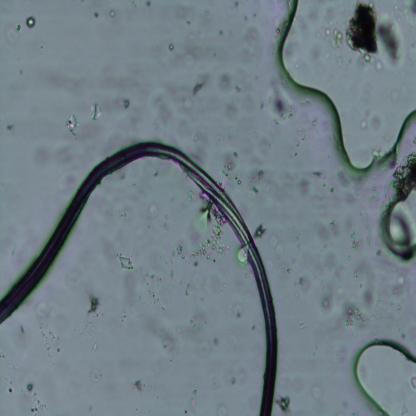Air bubble: (277, 0, 416, 180), (352, 339, 416, 416), (384, 180, 416, 269)
Background material: (346, 1, 404, 76), (188, 206, 222, 268), (154, 314, 185, 359), (391, 152, 416, 196), (143, 270, 167, 310), (121, 267, 138, 322), (267, 88, 293, 122), (38, 324, 63, 358), (152, 90, 174, 128), (180, 382, 204, 416), (321, 252, 349, 278), (315, 277, 334, 314), (222, 154, 243, 186), (326, 23, 346, 56), (31, 142, 54, 170), (334, 166, 355, 196), (344, 304, 366, 330), (185, 304, 207, 330), (213, 70, 233, 98), (57, 112, 78, 137), (369, 293, 387, 320), (293, 272, 310, 300), (250, 163, 264, 197), (10, 323, 29, 348), (390, 273, 408, 297), (334, 346, 352, 370), (358, 266, 376, 290), (232, 245, 250, 268), (34, 300, 53, 320), (116, 248, 135, 268), (180, 185, 201, 203), (8, 20, 23, 45), (31, 390, 46, 415), (85, 294, 102, 316), (268, 234, 284, 257), (86, 100, 104, 120), (276, 394, 292, 416), (192, 74, 208, 96), (224, 304, 244, 320), (249, 31, 261, 57), (222, 102, 238, 120), (66, 268, 82, 286), (170, 242, 186, 260), (189, 148, 207, 164), (297, 178, 312, 196), (180, 92, 195, 109), (181, 51, 195, 69), (350, 232, 362, 252), (365, 228, 375, 251), (314, 382, 326, 401), (193, 130, 207, 146), (179, 276, 190, 296), (407, 2, 416, 26), (321, 227, 333, 245), (88, 367, 103, 381), (364, 291, 376, 308), (226, 0, 237, 17), (253, 225, 267, 238), (280, 264, 292, 279), (265, 131, 277, 146), (297, 126, 307, 142), (26, 16, 38, 29), (372, 186, 380, 204), (221, 278, 228, 298), (120, 98, 131, 110), (298, 320, 309, 332), (264, 260, 274, 273), (24, 380, 34, 393), (135, 378, 144, 392), (217, 404, 227, 416), (312, 169, 324, 179), (330, 220, 338, 235), (209, 380, 222, 389), (118, 208, 128, 219), (6, 120, 14, 133), (148, 206, 158, 216), (90, 341, 99, 352), (169, 270, 178, 281), (213, 333, 221, 345), (7, 364, 19, 372), (302, 96, 312, 105), (150, 169, 160, 177), (216, 135, 224, 145), (167, 41, 174, 52), (342, 400, 350, 409), (162, 222, 171, 230), (118, 170, 127, 178), (312, 118, 318, 128), (230, 375, 236, 385), (273, 116, 279, 126), (258, 102, 266, 109), (110, 10, 117, 18), (233, 151, 240, 158), (144, 224, 152, 230), (0, 350, 6, 358), (292, 151, 298, 158), (161, 257, 167, 264), (18, 69, 24, 76), (347, 255, 352, 263), (146, 0, 151, 8), (294, 242, 300, 248), (165, 215, 171, 221), (312, 350, 318, 356), (354, 271, 359, 278), (96, 12, 101, 19), (398, 305, 402, 313), (228, 133, 232, 141), (187, 20, 192, 26), (234, 2, 239, 8), (277, 254, 282, 260), (330, 187, 335, 193), (7, 388, 12, 394), (398, 325, 402, 332), (236, 87, 240, 94), (220, 30, 224, 37), (322, 246, 327, 251), (254, 328, 258, 332), (378, 253, 381, 258), (403, 335, 406, 340), (254, 13, 256, 19), (244, 16, 247, 20), (316, 345, 318, 350)
Microfibre: (0, 139, 280, 416)
